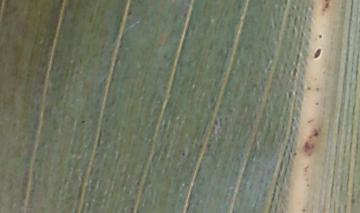tarspot: (312, 47, 323, 60), (79, 117, 87, 126), (126, 8, 133, 17), (317, 33, 323, 40)
